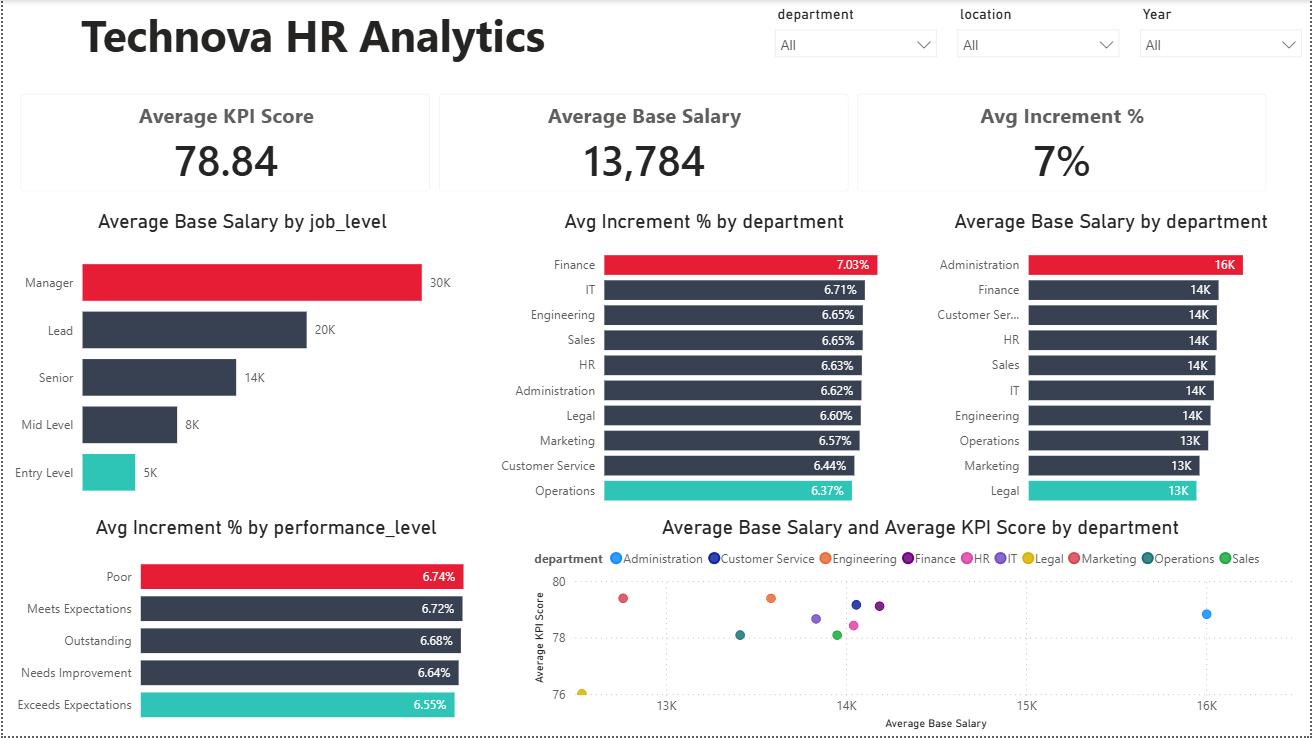

Layout of this report page (visuals, bound fields, positions):
{"tool":"powerbi","page":{"name":"Performance","canvas":[1280,720],"ordinal":1},"visuals":[{"type":"textbox","box":[0,0,606.5,69.7],"z":0,"group":"g1"},{"type":"cardVisual","fields":{"Data":["totals.Average KPI Score","totals.Average Base Salary","totals.Average increment increase"]},"box":[0,74.6,1254.6,130.8],"z":0},{"type":"slicer","fields":{"Values":["dim-employees.department"]},"box":[744.7,0,178.5,61.1],"z":1000,"group":"g1"},{"type":"barChart","fields":{"Category":["dim-employees.job_level"],"Y":["totals.Average Base Salary"]},"box":[0,205.4,468.3,299.6],"z":1000},{"type":"slicer","fields":{"Values":["dim-employees.location"]},"box":[923.2,0,178.5,61.1],"z":2000,"group":"g1"},{"type":"barChart","fields":{"Y":["totals.Avg Increment %"],"Category":["fac-employee_performance.performance_level"]},"box":[0,505,514.8,215.2],"z":2000},{"type":"slicer","fields":{"Values":["Date.Year"]},"box":[1101.8,0,178.5,61.1],"z":3000,"group":"g1"},{"type":"scatterChart","fields":{"Y":["totals.Average KPI Score"],"Series":["dim-employees.department"],"X":["totals.Average Base Salary"]},"box":[514.8,505,765.5,214],"z":3000},{"type":"clusteredBarChart","fields":{"Y":["totals.Average Base Salary"],"Category":["dim-employees.department"]},"box":[897.6,205.4,373,299.6],"z":4000},{"type":"clusteredBarChart","fields":{"Y":["totals.Avg Increment %"],"Category":["dim-employees.department"]},"box":[474.5,205.4,423.1,299.6],"z":5000},{"type":"group","id":"g1","title":"Group 2","box":[0,0,1280.3,69.7],"z":5001}]}

Visuals, with their boxes in screenshot pixels (x1, y1, x2, y2), scaled from the page's 1280x720 canvas onto the 1312x738 screenshot:
textbox: (0,0,622,71)
cardVisual - totals.Average KPI Score x totals.Average Base Salary: (0,76,1286,211)
slicer - dim-employees.department: (763,0,946,63)
barChart - dim-employees.job_level x totals.Average Base Salary: (0,211,480,518)
slicer - dim-employees.location: (946,0,1129,63)
barChart - totals.Avg Increment % x fac-employee_performance.performance_level: (0,518,528,737)
slicer - Date.Year: (1129,0,1311,63)
scatterChart - totals.Average KPI Score x dim-employees.department: (528,518,1311,737)
clusteredBarChart - totals.Average Base Salary x dim-employees.department: (920,211,1302,518)
clusteredBarChart - totals.Avg Increment % x dim-employees.department: (486,211,920,518)
"Group 2" group: (0,0,1311,71)
